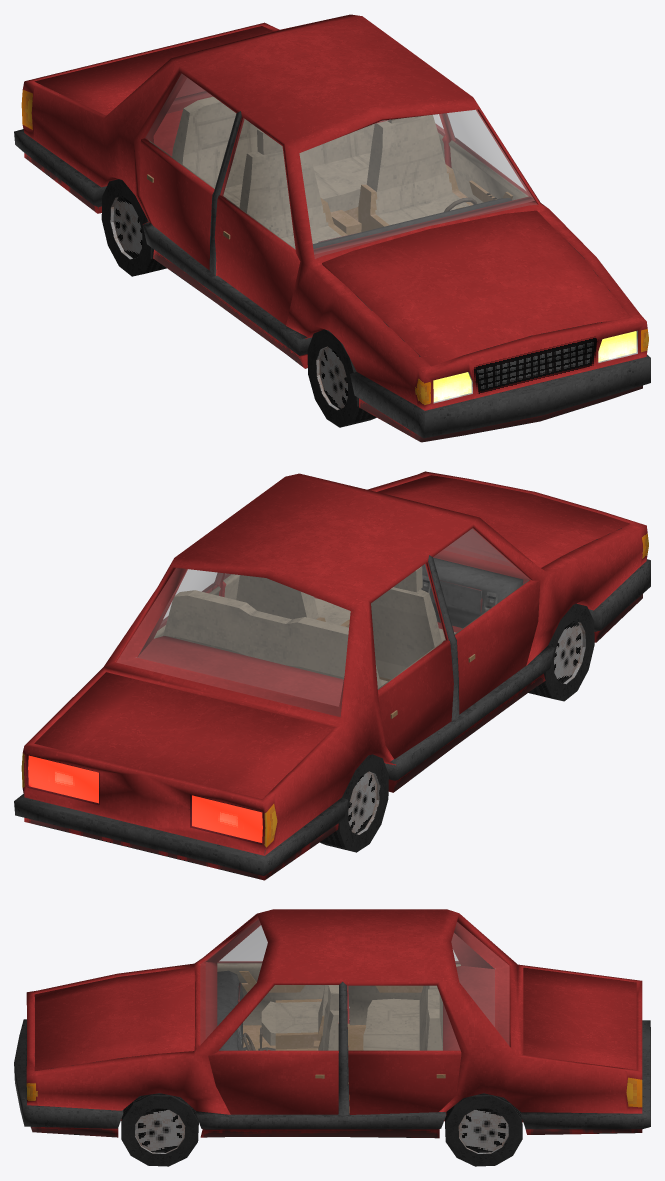
File: Car2.glb
3 renders of one model, top to bottom at view 1: azimuth 30°, elevation 25°; view 2: azimuth 150°, elevation 25°; view 3: azimuth 270°, elevation 25°, orthographic. The views are drawn at different scales.
Visible parts, largest first — view 1: Car_Base, car_hood, R_Door_Front, R_Door_Back, trunk, L_Door_Front, R_Wheel_Front, R_Wheel_Back; view 2: Car_Base, trunk, R_Door_Front, R_Door_Back, car_hood, R_Wheel_Back, R_Wheel_Front, L_Door_Back; view 3: Car_Base, L_Door_Front, L_Door_Back, car_hood, trunk, L_Wheel_front, L_Wheel_Back, R_Door_Front, R_Door_Back.
Part boxes in pixels (x1=…): Car_Base: x1=14, y1=14, x2=650, y2=442; car_hood: x1=322, y1=210, x2=630, y2=366; R_Door_Front: x1=214, y1=118, x2=300, y2=325; R_Door_Back: x1=140, y1=74, x2=235, y2=270; trunk: x1=34, y1=26, x2=272, y2=115; L_Door_Front: x1=446, y1=110, x2=529, y2=203; R_Wheel_Front: x1=307, y1=329, x2=376, y2=427; R_Wheel_Back: x1=101, y1=179, x2=166, y2=276; Car_Base: x1=14, y1=471, x2=650, y2=880; trunk: x1=34, y1=672, x2=333, y2=798; R_Door_Front: x1=433, y1=528, x2=540, y2=714; R_Door_Back: x1=371, y1=564, x2=453, y2=758; car_hood: x1=377, y1=475, x2=629, y2=567; R_Wheel_Back: x1=320, y1=754, x2=388, y2=852; R_Wheel_Front: x1=528, y1=603, x2=594, y2=701; L_Door_Back: x1=154, y1=569, x2=222, y2=638; Car_Base: x1=14, y1=909, x2=650, y2=1138; L_Door_Front: x1=208, y1=985, x2=338, y2=1114; L_Door_Back: x1=347, y1=986, x2=461, y2=1114; car_hood: x1=34, y1=967, x2=195, y2=1070; trunk: x1=523, y1=967, x2=636, y2=1069; L_Wheel_front: x1=121, y1=1093, x2=198, y2=1166; L_Wheel_Back: x1=445, y1=1093, x2=522, y2=1166; R_Door_Front: x1=217, y1=926, x2=324, y2=1025; R_Door_Back: x1=348, y1=951, x2=460, y2=1025.
Size of the model in its own units: 1.71 by 1.48 by 4.73.
Materials: 2 (2 with a texture image).
